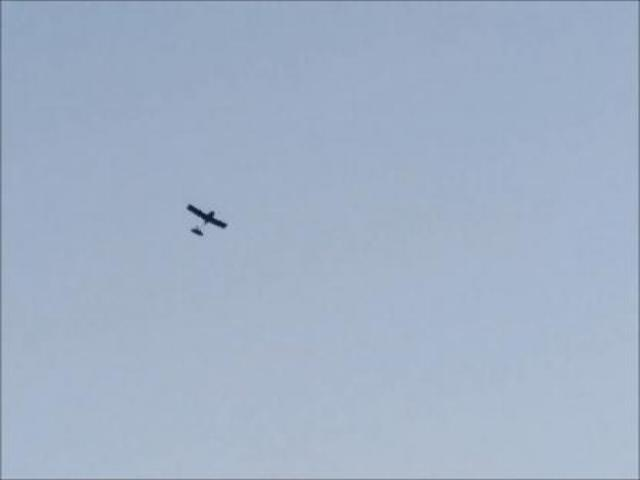uav: (180, 194, 232, 246)
